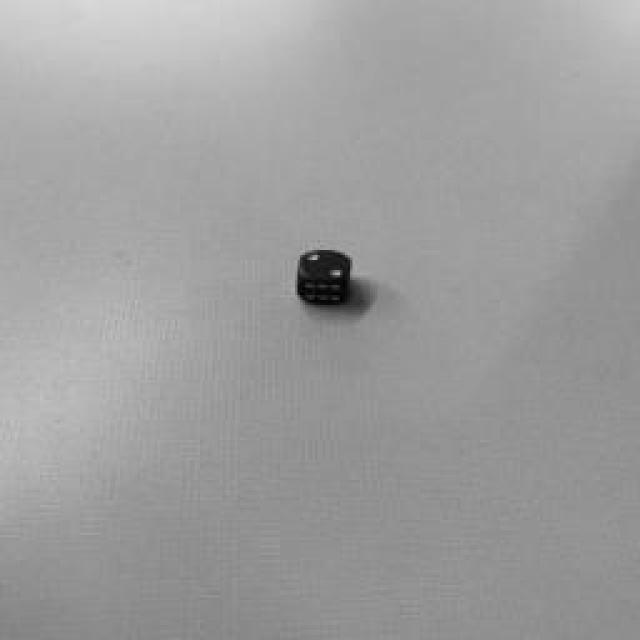dice_2: (299, 250, 351, 280)
